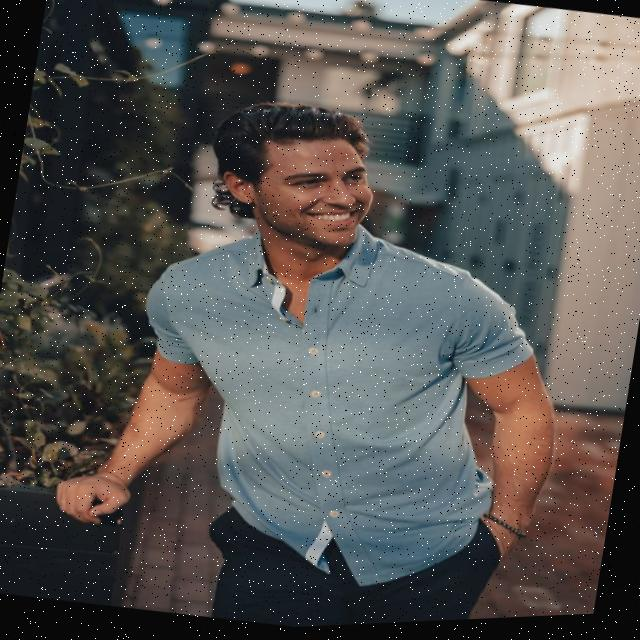Upper-Body: (148, 228, 535, 590)
